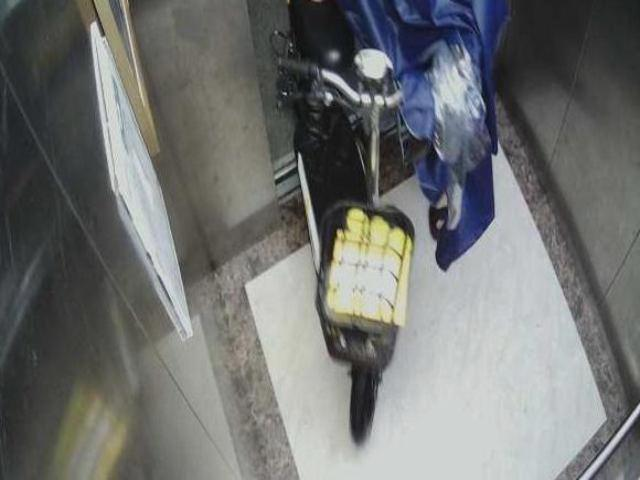emotor: (270, 17, 429, 425)
